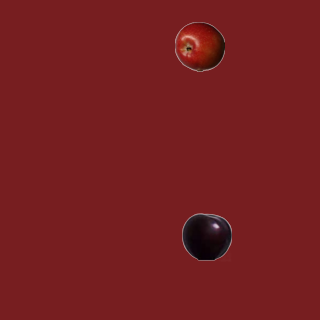Apple Braeburn: (174, 21, 224, 71)
Cherry Wax Black: (181, 211, 231, 261)
